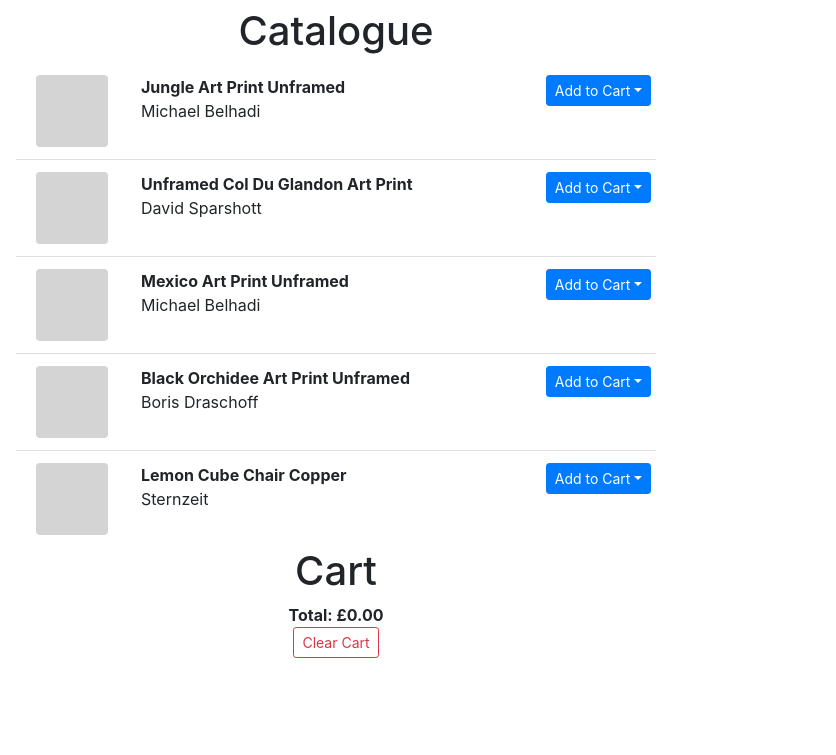
Test: e2e tests - as a user › when I add an item variant to the cart › I can increase the quantity of an item in the cart
Click the button "Add to Cart" in the row of "Jungle Art Print Unframed" at (598, 90), box top-left (546, 75), bottom-right (651, 106)
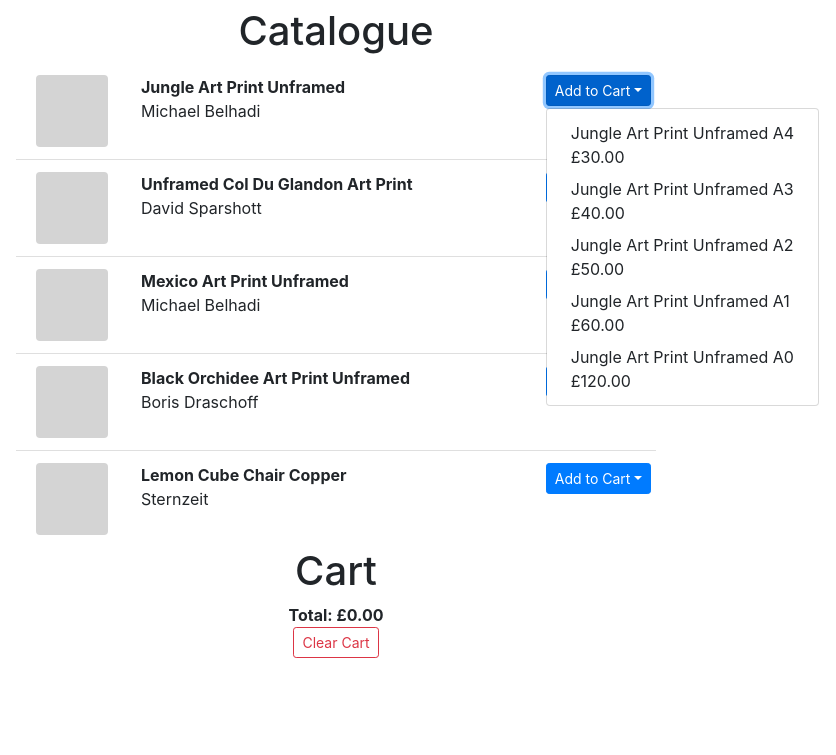
Click the text "Jungle Art Print Unframed A4" at (682, 133), box top-left (571, 121), bottom-right (794, 145)
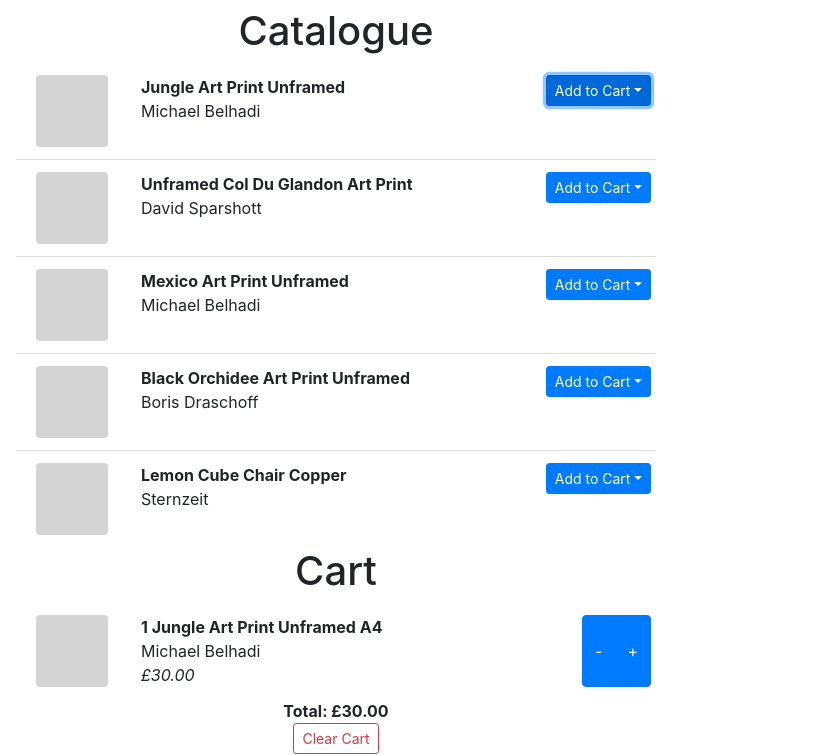
Click the button "+" at (633, 651), box top-left (614, 615), bottom-right (651, 687)
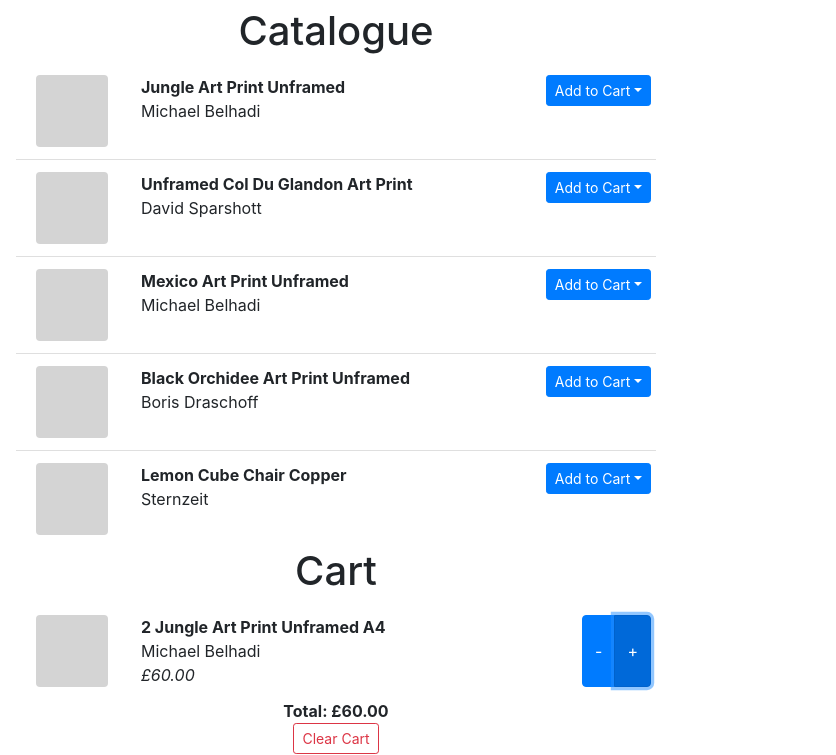
expect the text "Total: £60.00" is shown: met, box top-left (283, 699), bottom-right (389, 723)
